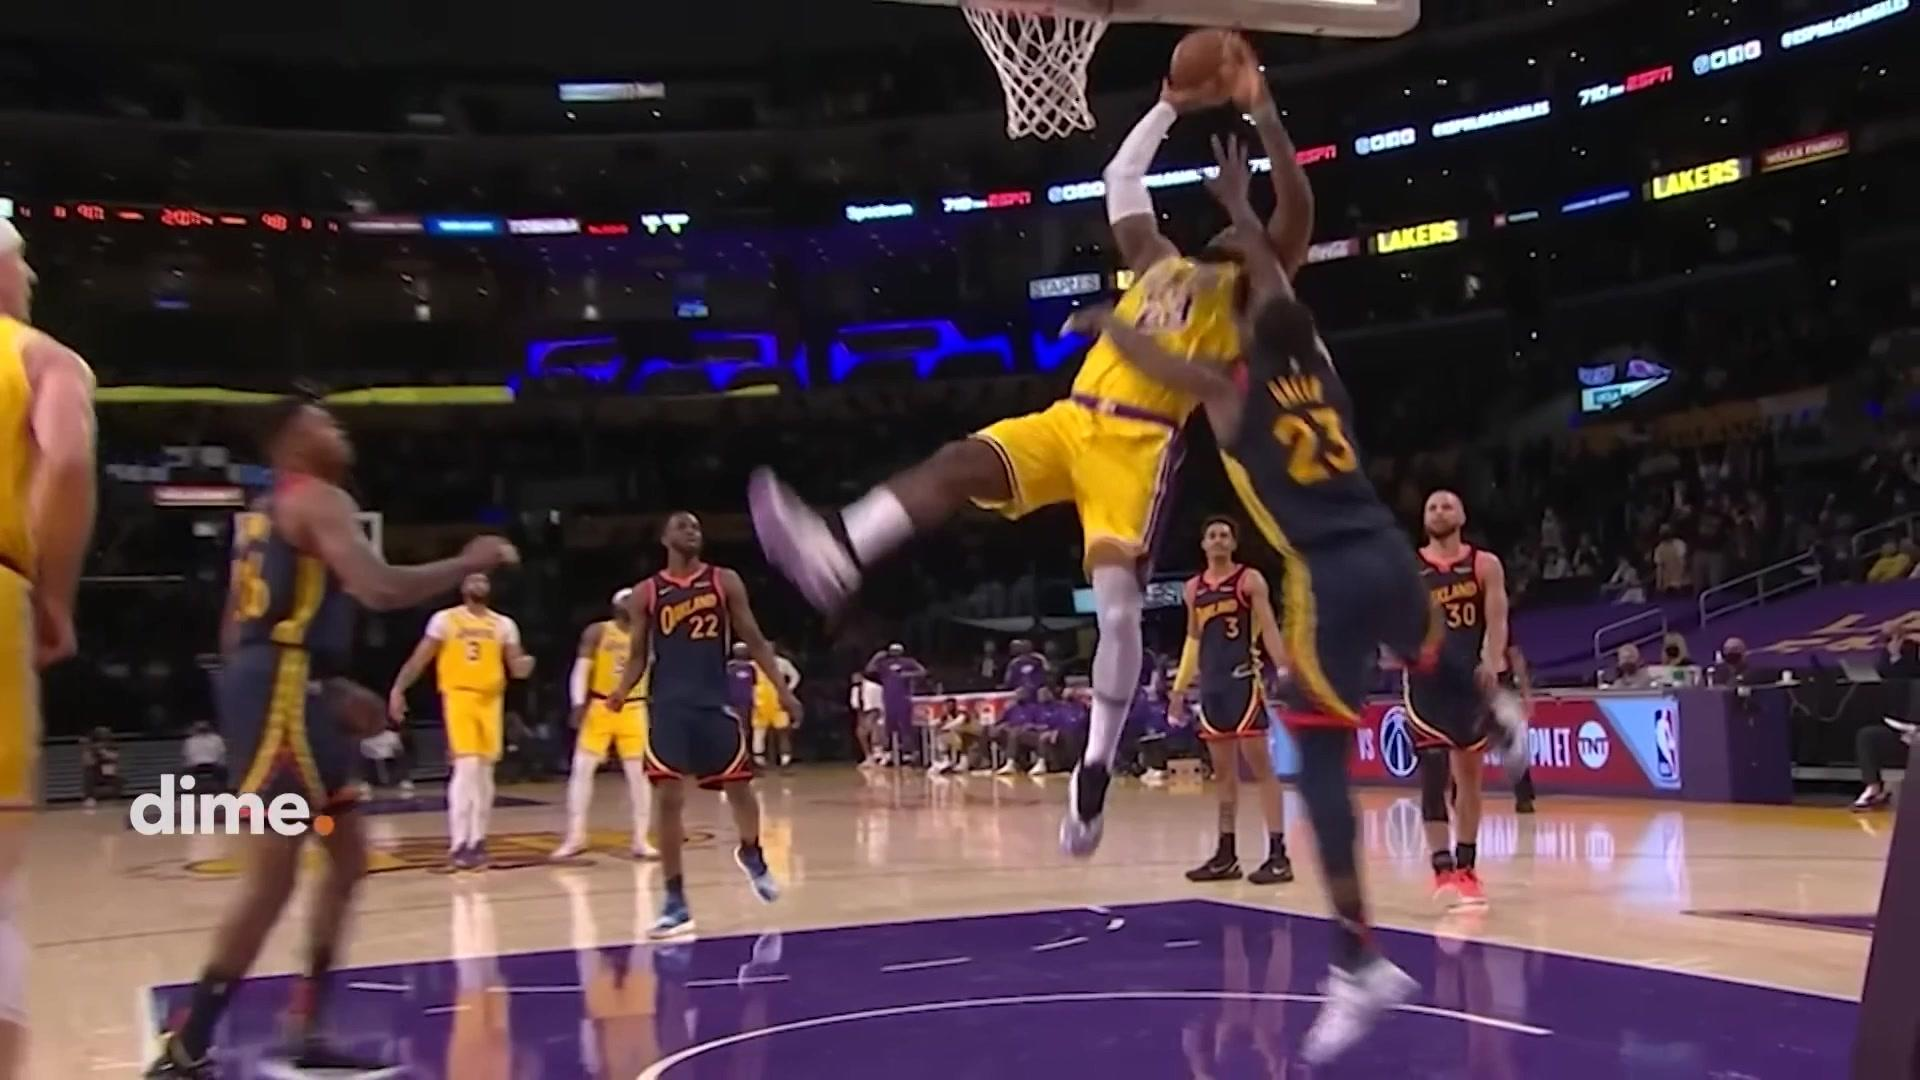foul: (890, 76, 1436, 1017)
